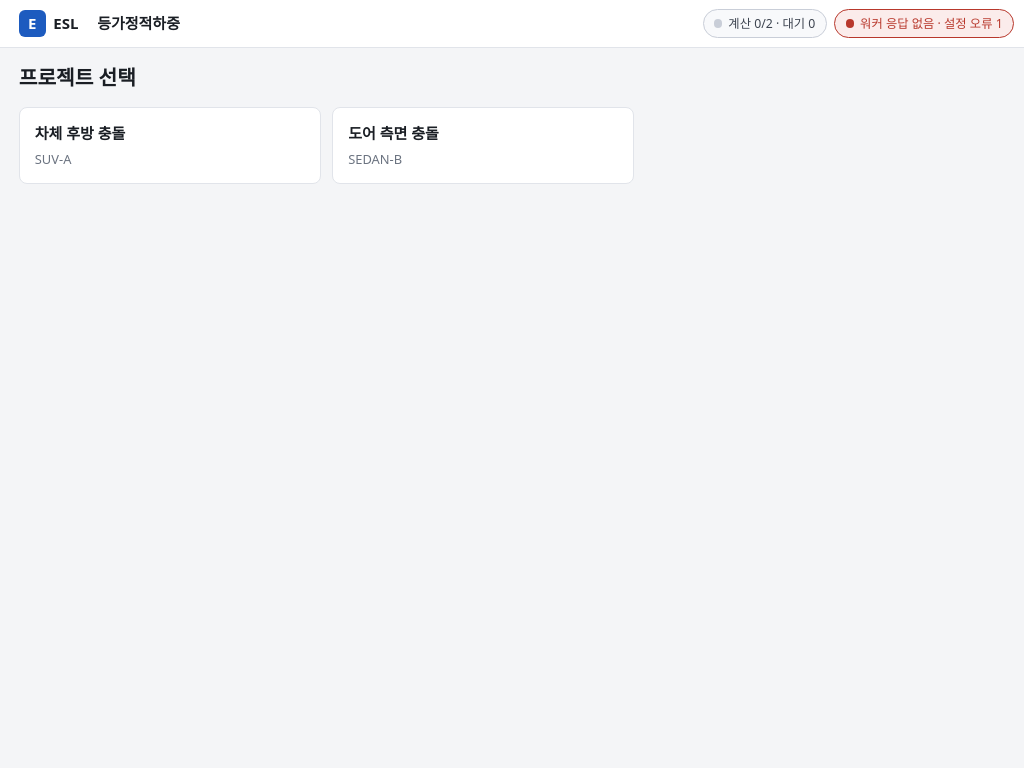
Test: V-L3-12 상태 칩·서랍 › 칩 문구: 실행/slots · 대기 · 보고서, 워커 오프라인, 설정 오류
Click the button with test id "chip-worker" at (924, 24), box [834,9,1014,38]
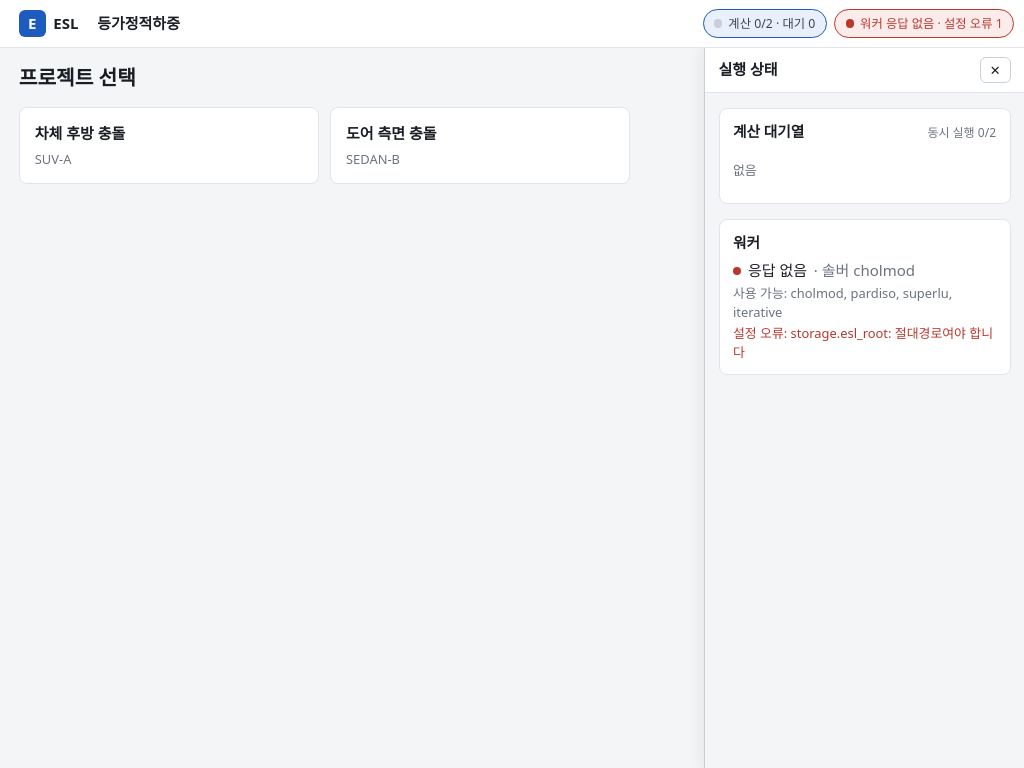
Now the text "설정 오류: storage.esl_root: 절대경로여야 합니다" is shown, box [733,324,996,361]
